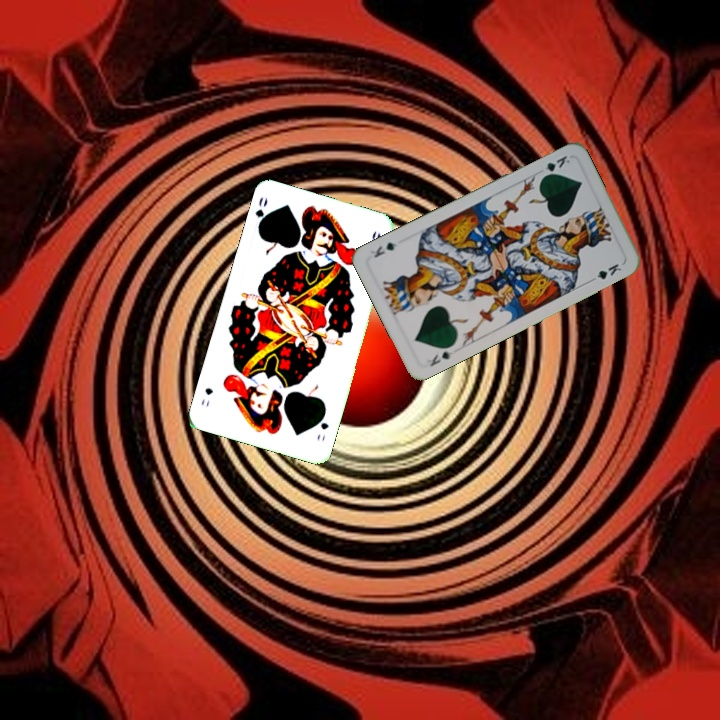GK: (534, 151, 573, 181), (426, 346, 455, 369)
GO: (251, 193, 271, 234), (313, 408, 331, 444)
